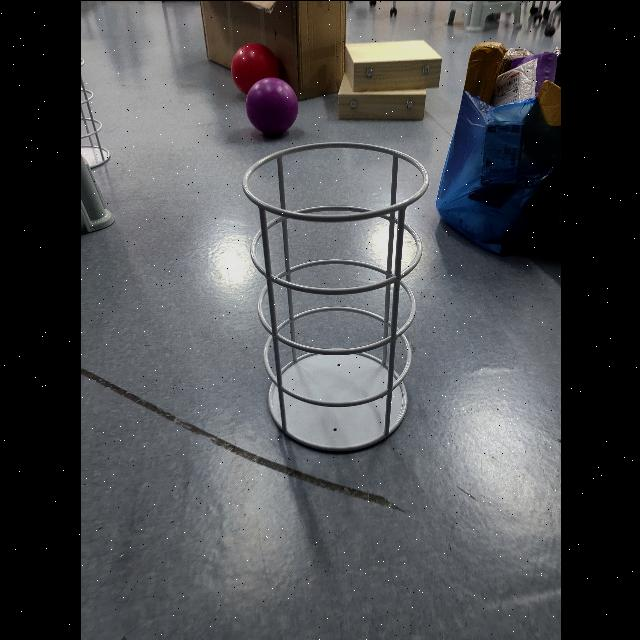S: (238, 137, 432, 457)
